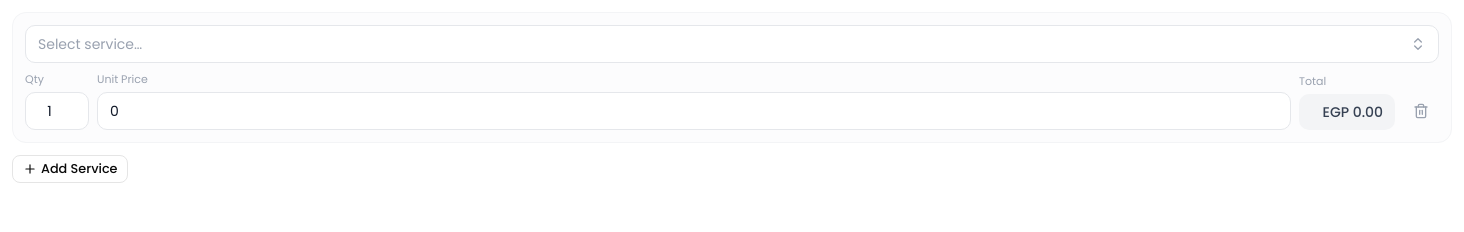
Test case: InvoiceLineItemsEditor › lists the provider's authorized services in the picker and selects one
Open the combobox.
Click the button "Select service…".
click(90, 44)  # box [25,25,1439,63]
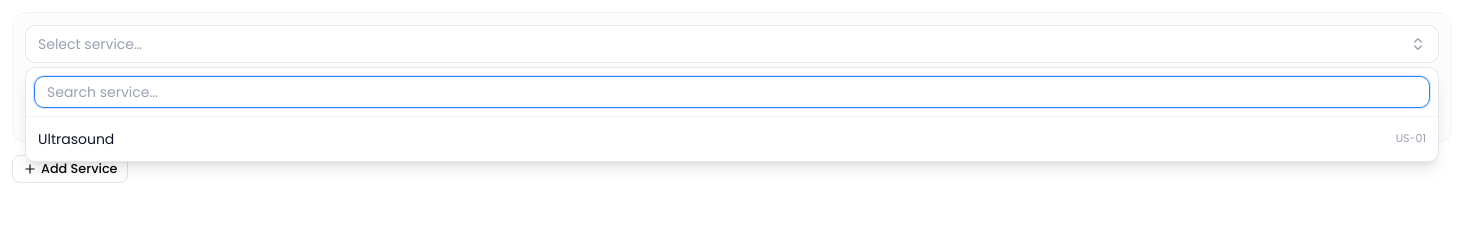
Press the mouse on the button "Ultrasound US-01" at x=76, y=139, box [26,121,1438,157]
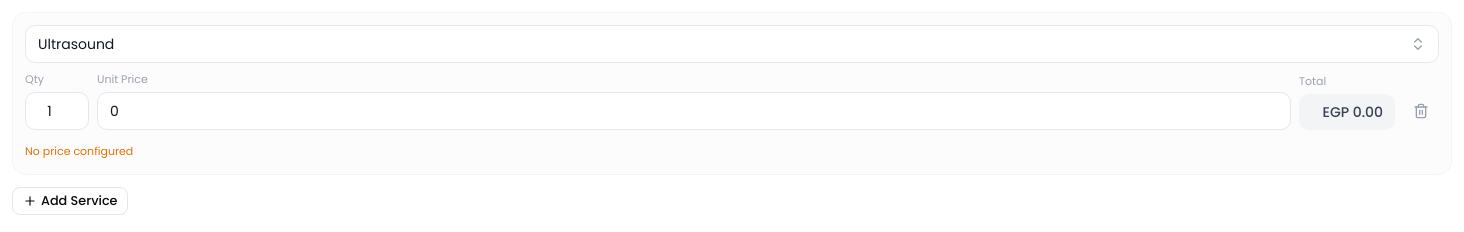
Check: the text "Ultrasound" is shown, box [38,34,114,54]
